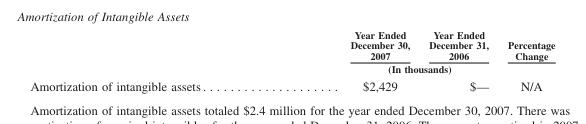table: (29, 28, 554, 92)
table column: (29, 28, 277, 92), (277, 28, 418, 92), (418, 28, 497, 92), (497, 28, 554, 92)
table column header: (29, 28, 554, 76)
table row: (29, 28, 554, 61), (29, 76, 554, 92), (29, 61, 554, 76)
table spanning cell: (277, 61, 497, 76), (497, 28, 554, 76)
